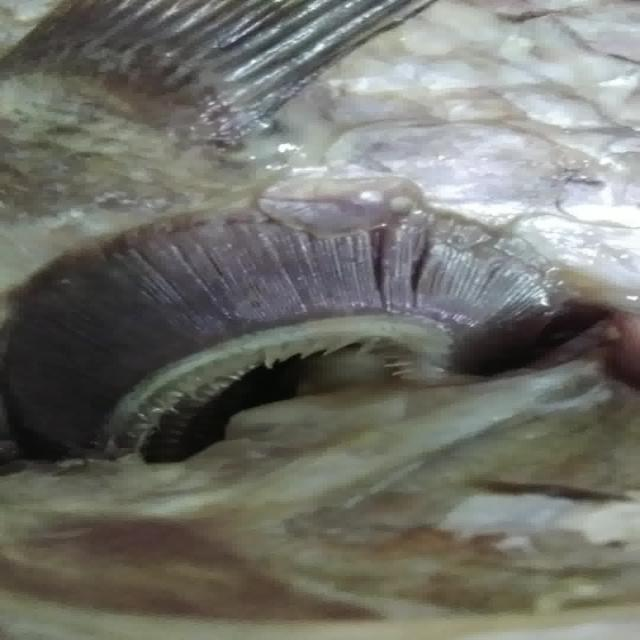Non-Fresh: (26, 216, 561, 434)
